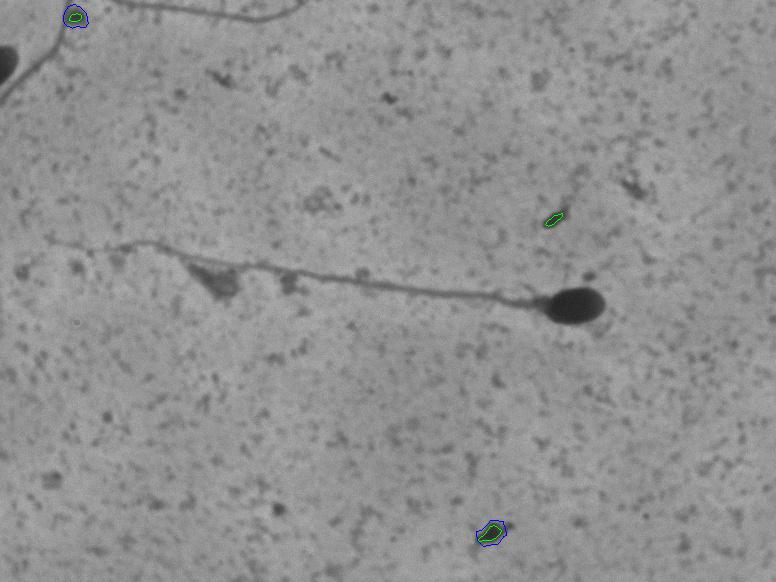Abnormal: (38, 226, 650, 337)
